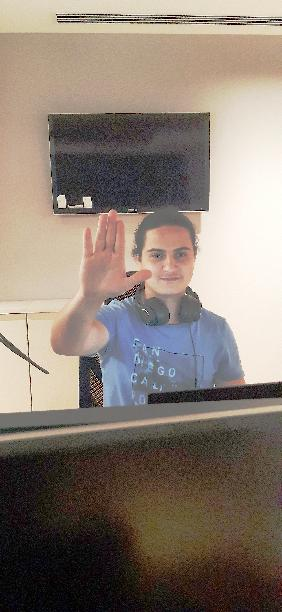Paper: (80, 207, 153, 303)
